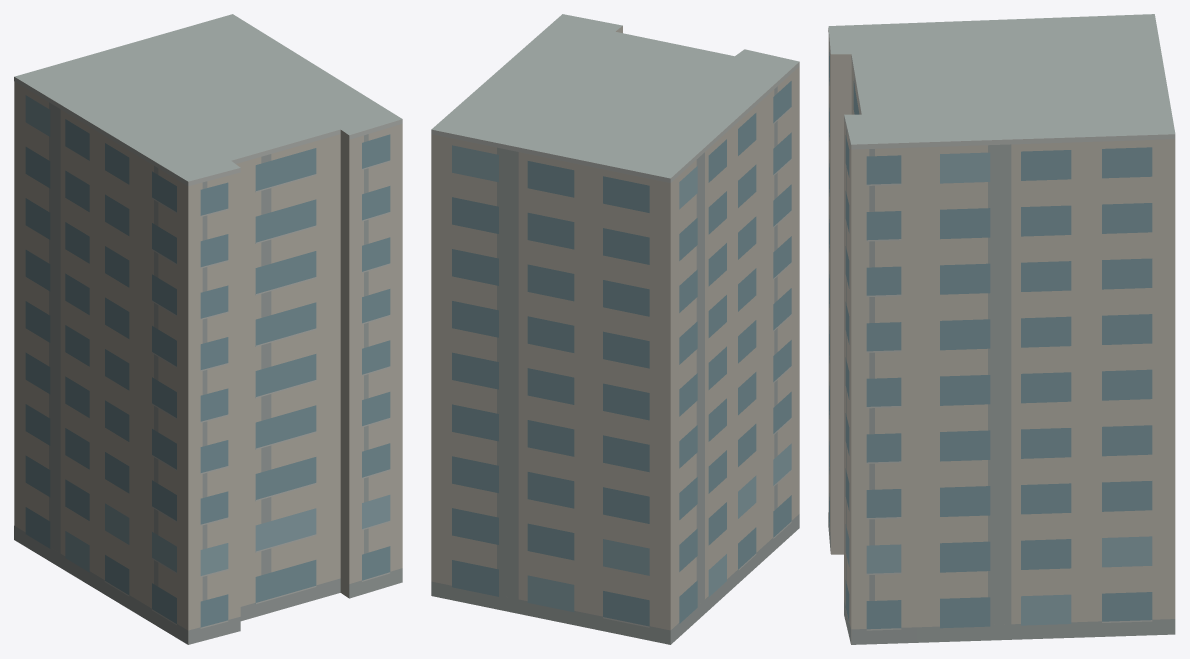
File: survey-upis-33006079.glb
The picture shows the model from 3 angles, left to right: view 1: azimuth 30°, elevation 25°; view 2: azimuth 150°, elevation 25°; view 3: azimuth 270°, elevation 25°; orthographic projection. The views are drawn at different scales.
Visible parts, largest first — view 1: survey-upis-33006079.tmp; view 2: survey-upis-33006079.tmp; view 3: survey-upis-33006079.tmp.
Part boxes in pixels (x1,y1,x2,y2): survey-upis-33006079.tmp: (14, 14, 402, 644); survey-upis-33006079.tmp: (431, 14, 799, 644); survey-upis-33006079.tmp: (828, 14, 1175, 644).
Size of the model in its own units: 13.84 by 24.7 by 15.54.
